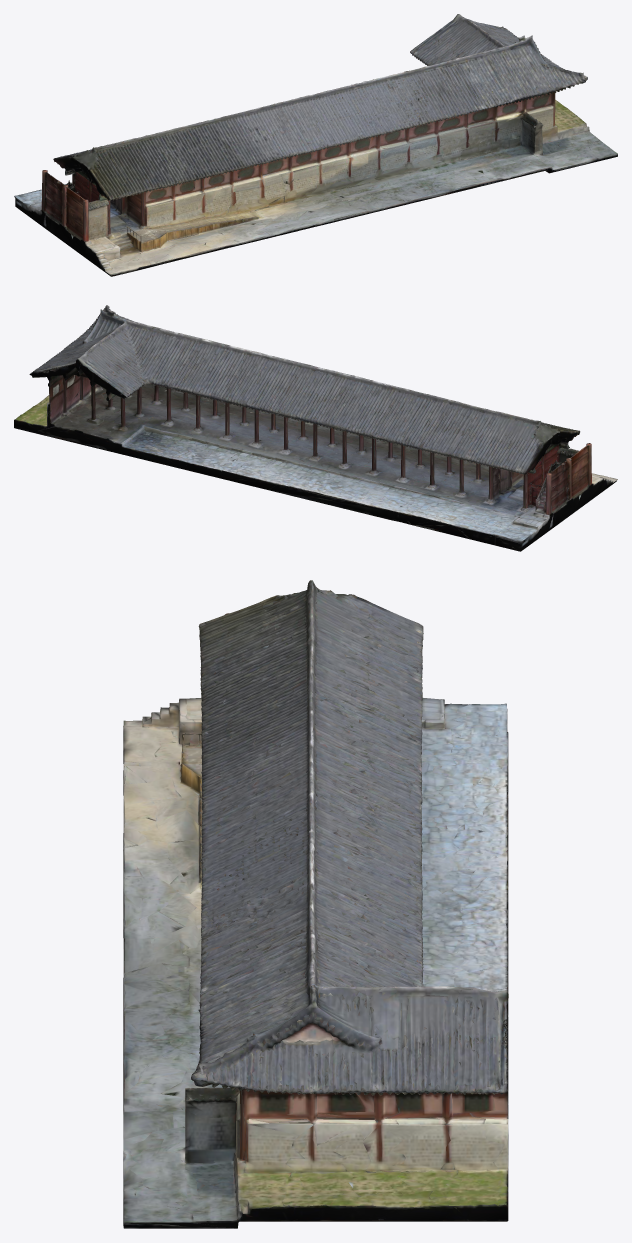
The model's file is dongwollang.glb.
3 views of the same model, one above another, from view 1: azimuth 30°, elevation 25°; view 2: azimuth 150°, elevation 25°; view 3: azimuth 270°, elevation 25° (orthographic). The views are drawn at different scales.
Parts seen in each view (by area): view 1: GJM_E_WR_L; view 2: GJM_E_WR_L; view 3: GJM_E_WR_L.
Boxes of the visible parts, <box> form: GJM_E_WR_L: <box>14,14,617,276</box>; GJM_E_WR_L: <box>14,305,617,551</box>; GJM_E_WR_L: <box>123,580,508,1228</box>.
Size of the model in its own units: 0.5332 by 0.0981 by 0.175.
Materials: 1 (1 with a texture image).
